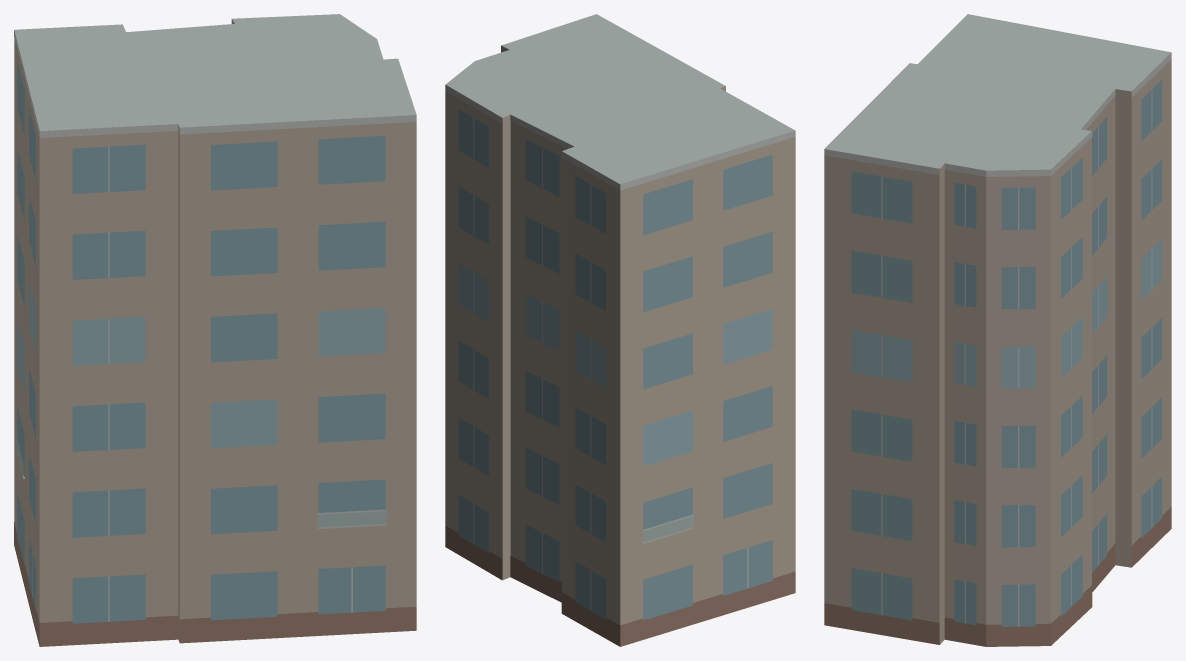
Rendered from survey-upis-32468738.glb.
3 renders of one model, left to right at view 1: azimuth 30°, elevation 25°; view 2: azimuth 150°, elevation 25°; view 3: azimuth 270°, elevation 25°, orthographic. The views are drawn at different scales.
Visible parts, largest first — view 1: survey-upis-32468738.tmp; view 2: survey-upis-32468738.tmp; view 3: survey-upis-32468738.tmp.
Boxes of the visible parts, left/top/right/bottom form: survey-upis-32468738.tmp: left=14, top=14, right=416, bottom=646; survey-upis-32468738.tmp: left=445, top=14, right=795, bottom=646; survey-upis-32468738.tmp: left=824, top=14, right=1171, bottom=646.
Size of the model in its own units: 12.95 by 18.35 by 12.14.
